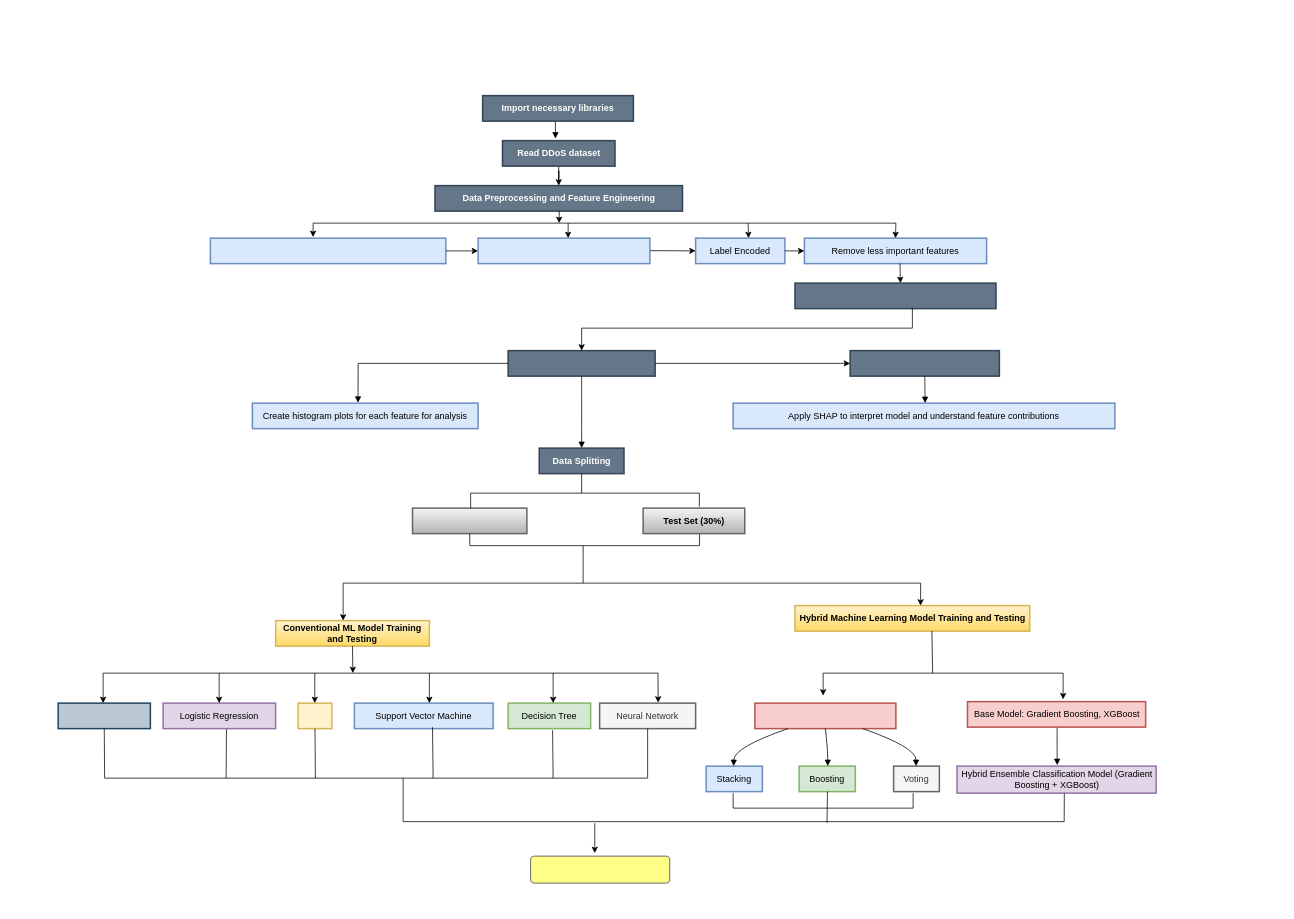
Some shapes in this 1294 by 919 pixel diagram are drawn without their labels. Each missing label, with the centre of its shape:
"Base Model: LR, RF, GB" goes at point (825, 715).
"Check and remove null values" goes at point (563, 250).
"Evaluation" goes at point (600, 869).
"Explainable AI Techniques" goes at point (924, 363).
"Exploratory Data Analysis" goes at point (581, 363).
"KNN" goes at point (314, 715).
"Random Forest" goes at point (104, 715).
"Remove white spaces from column names" goes at point (327, 250).
"Select top 45 important features" goes at point (895, 295).
"Training Set (70%)" goes at point (469, 520).
